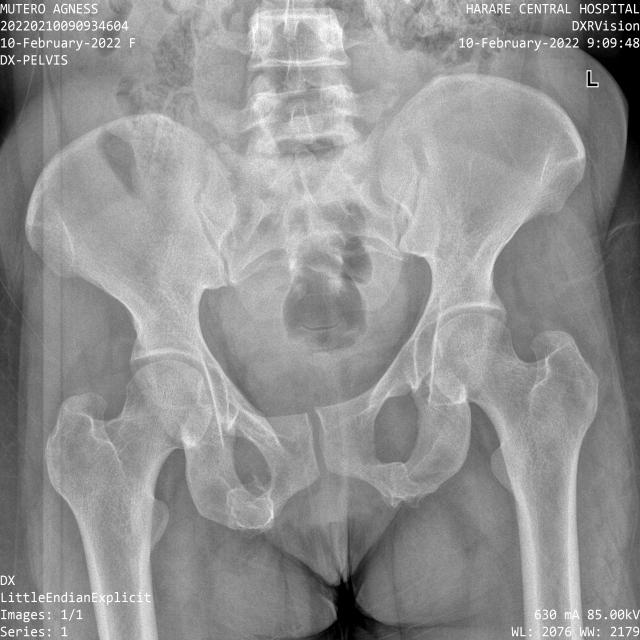normal-left: (431, 312, 600, 640)
normal-right: (44, 359, 212, 640)
